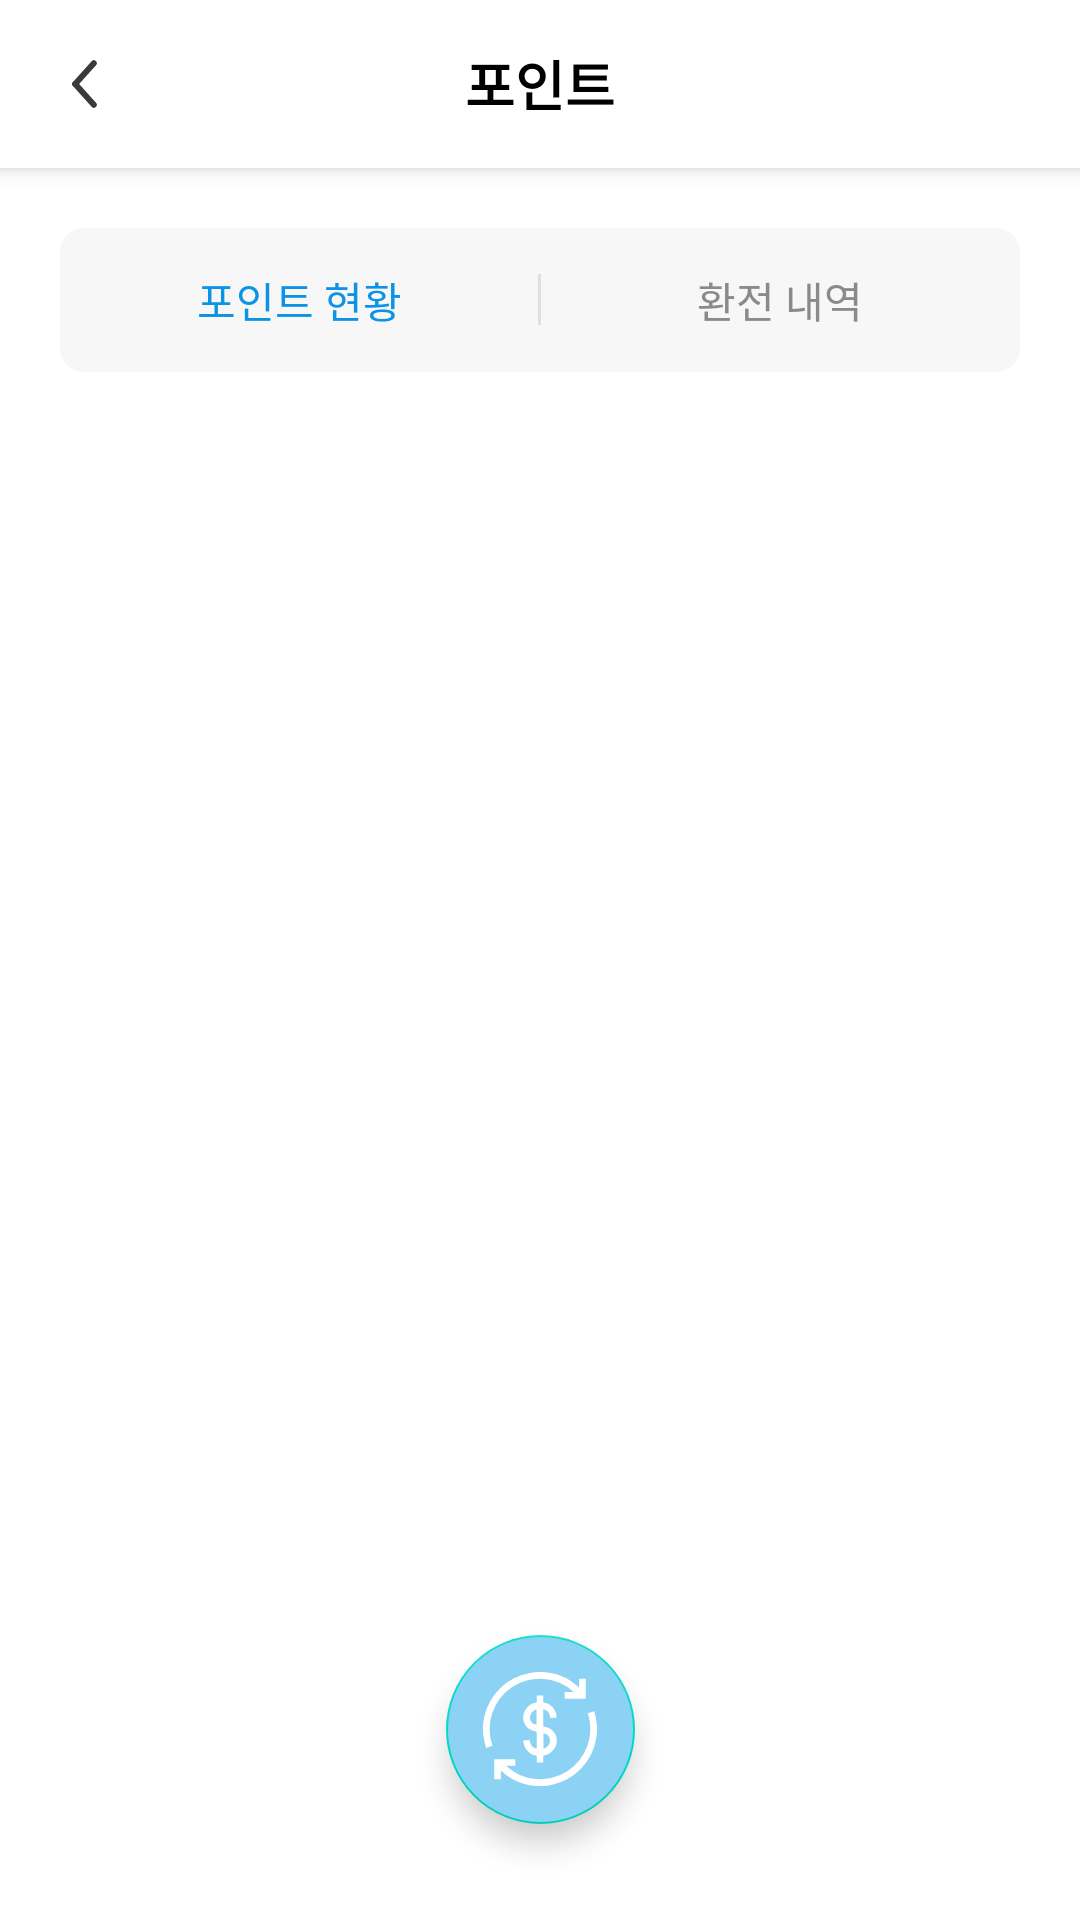

Named icons in this screenshot (1080x1920) and their bounding boxes, (x1, y1, x2, y2):
exchange: (446, 1635, 635, 1824)
